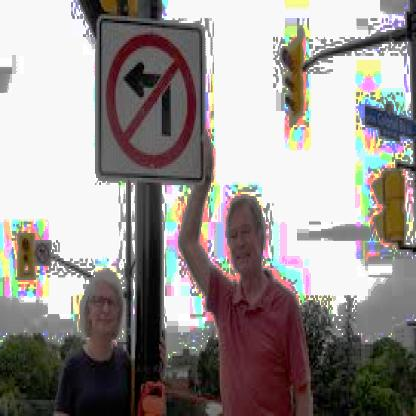No left turn: (103, 22, 203, 174)
